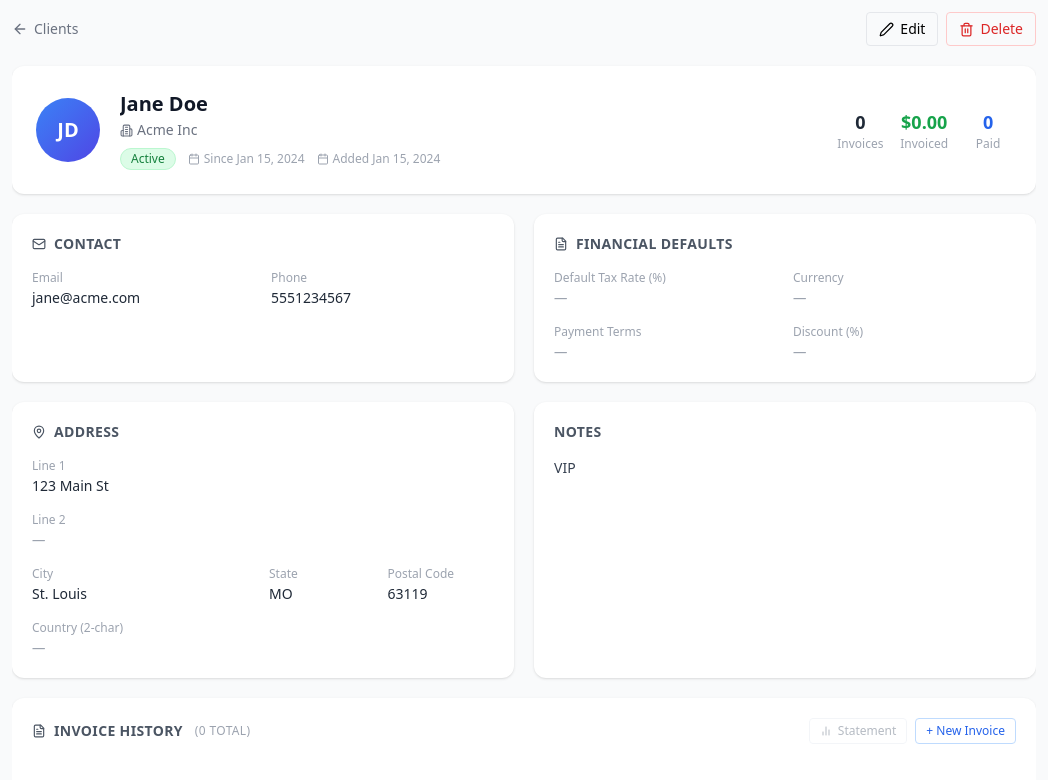
ClientDetail — required field validation › blocks save and shows error when email format is invalid
The image size is (1048, 780).
Check: the heading "Jane Doe" is shown, box [120,90,208,117]
Click the button "Edit" at (902, 29), box [866,12,938,46]
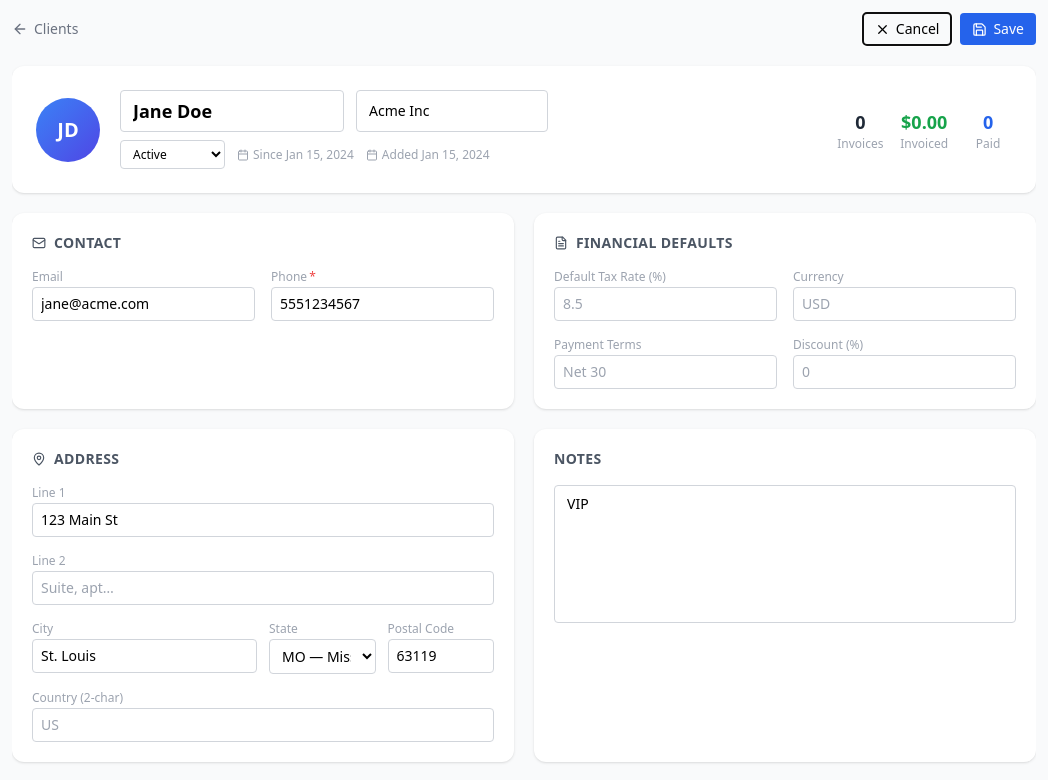
Replace the text in the field showing "jane@acme.com" below "Email" with "not-an-email" at (144, 304), box [32,287,255,321]
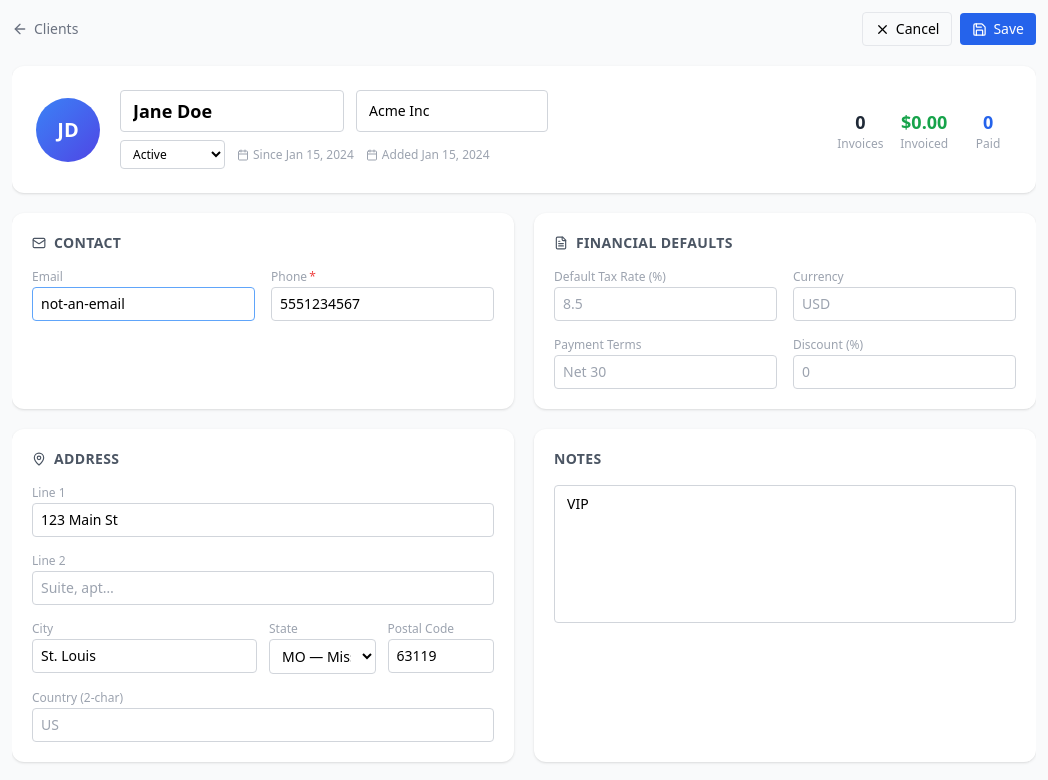
Click the button "Save" at (998, 29), box [960,13,1036,45]
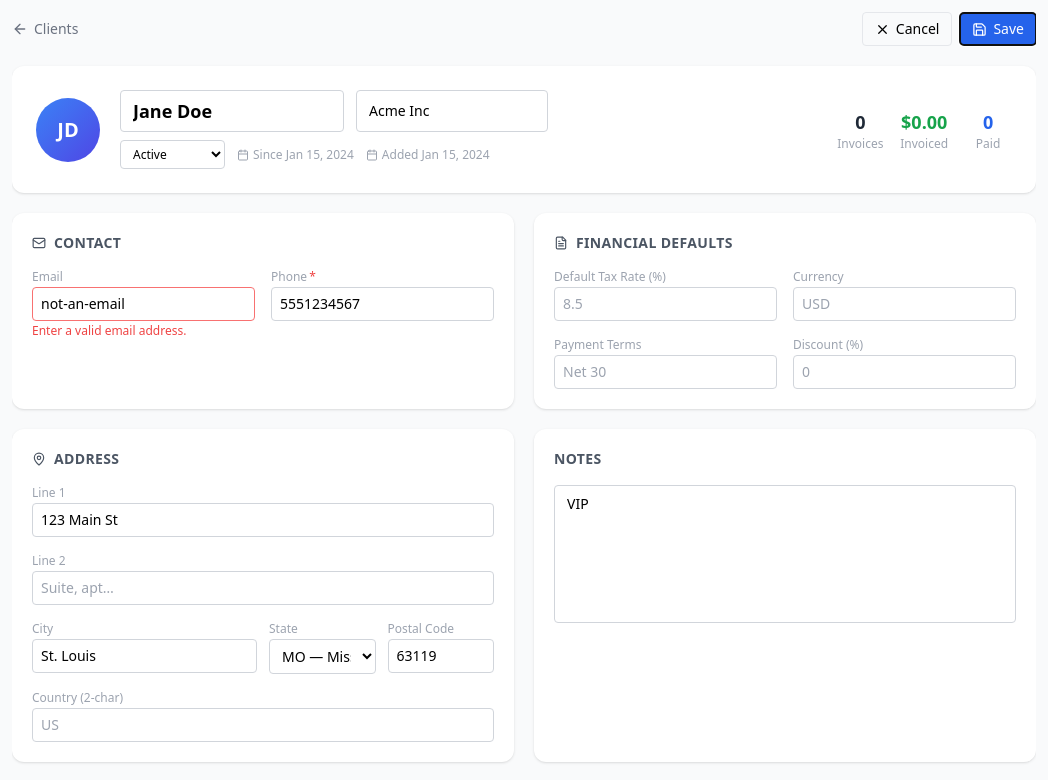
Check: the text "Enter a valid email address." is shown, box [32,322,186,339]
